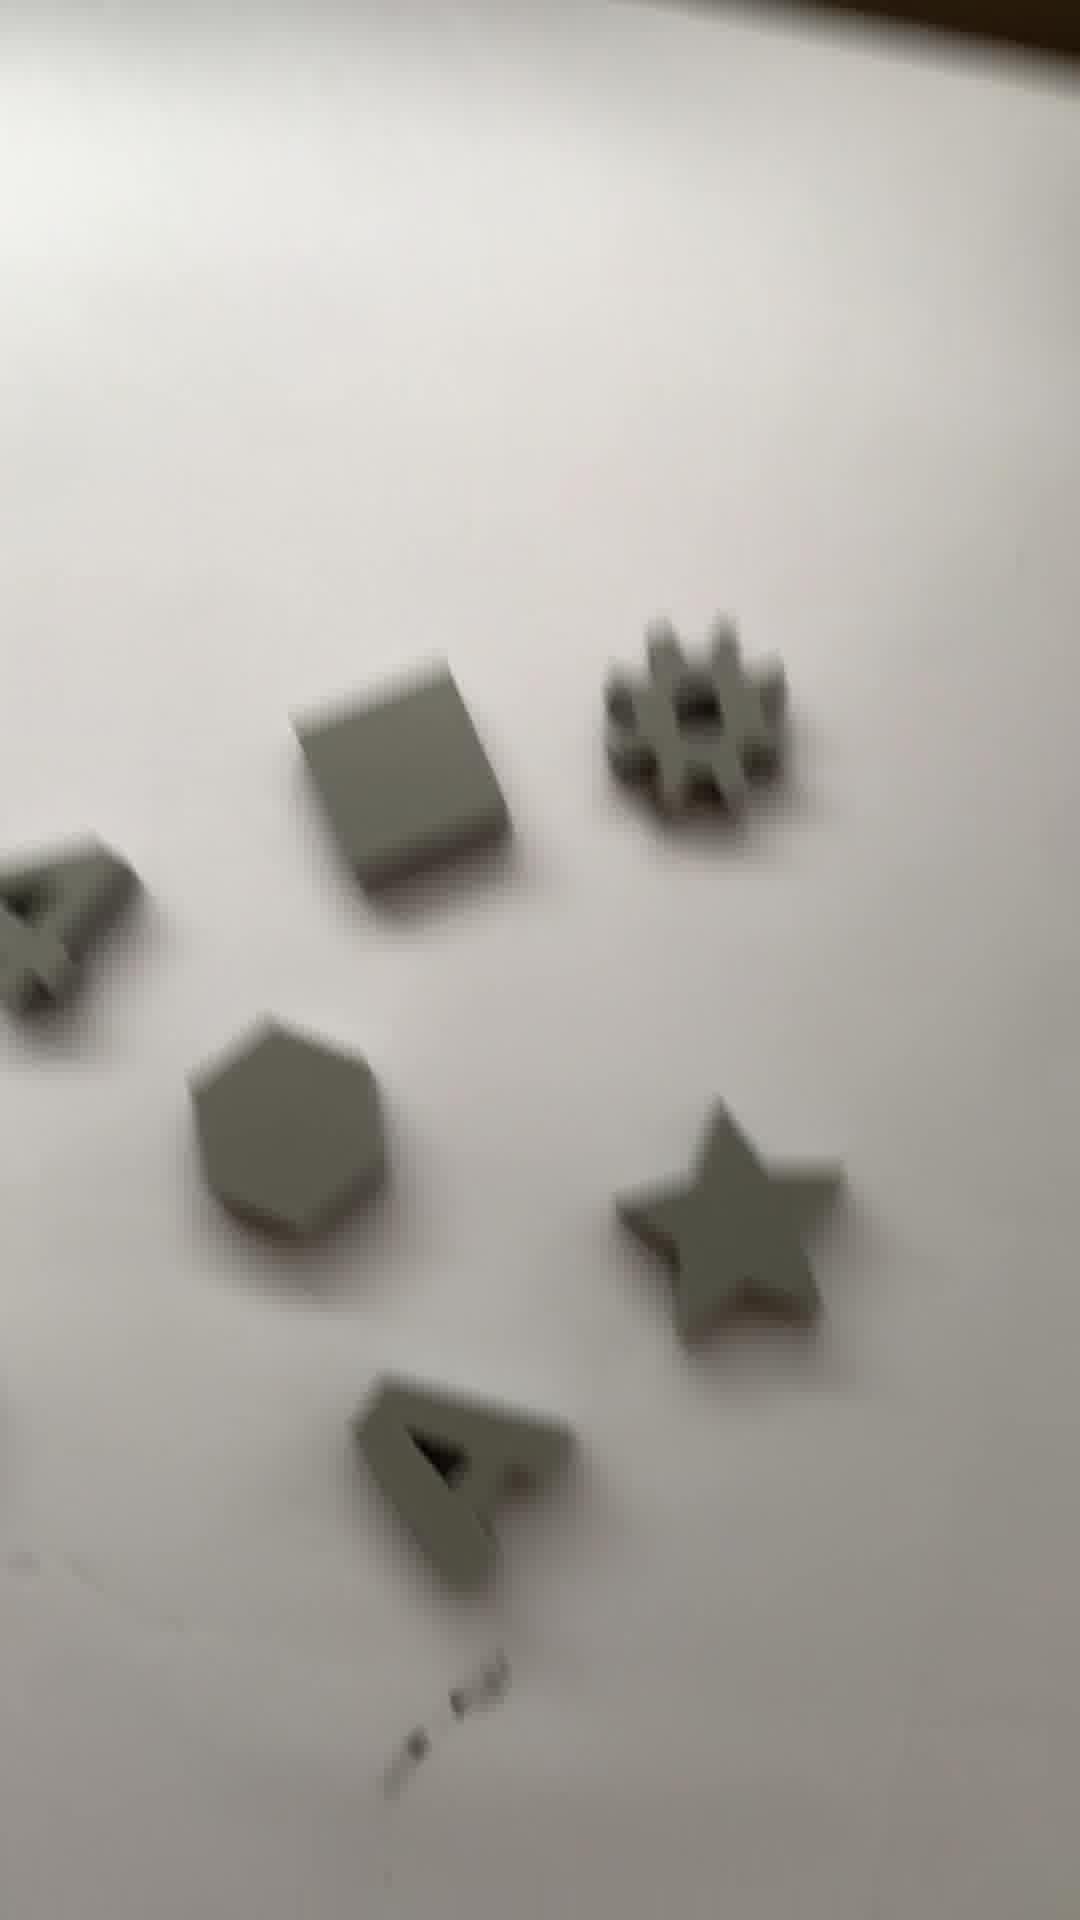Gray A-letter: (343, 1383, 560, 1589)
Gray four: (1, 837, 142, 1034)
Gray gear: (592, 626, 790, 851)
Gray hexagon: (179, 1014, 404, 1250)
Gray square: (298, 683, 492, 887)
Gray star: (592, 1104, 855, 1364)
